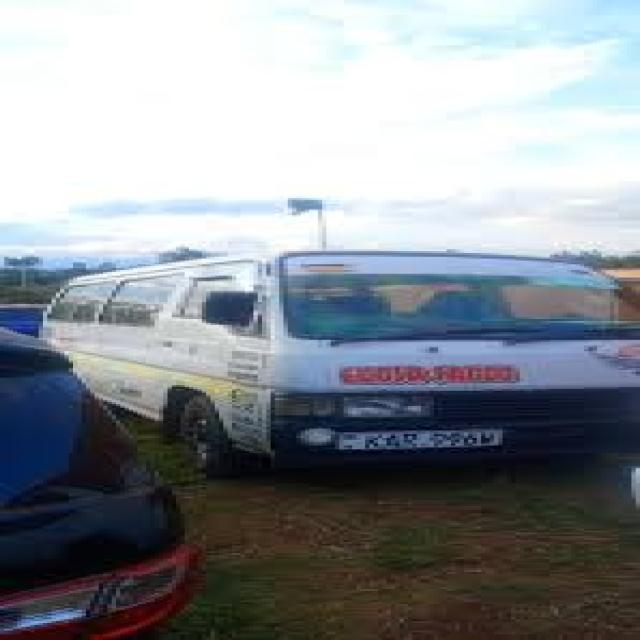matatu: (35, 176, 640, 504)
